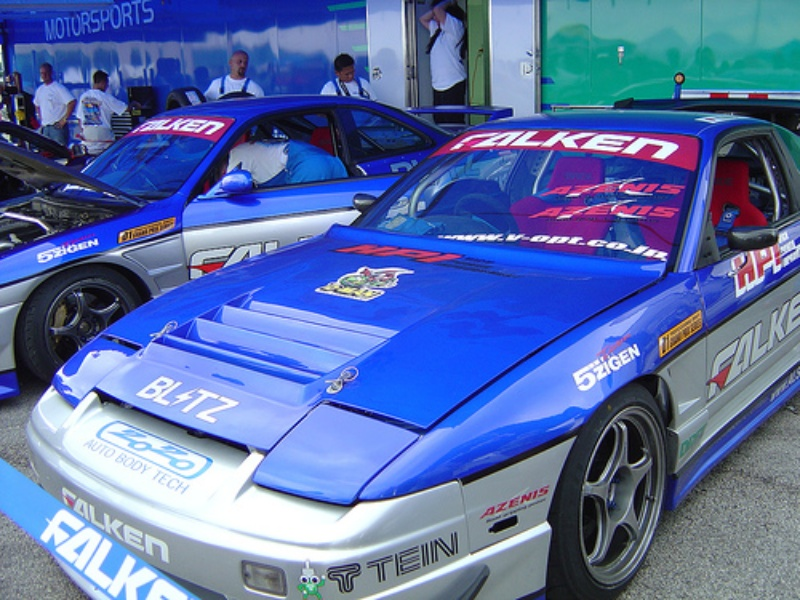person: (419, 1, 467, 123), (77, 70, 129, 147), (31, 63, 76, 146), (203, 50, 264, 98), (321, 53, 375, 100)
